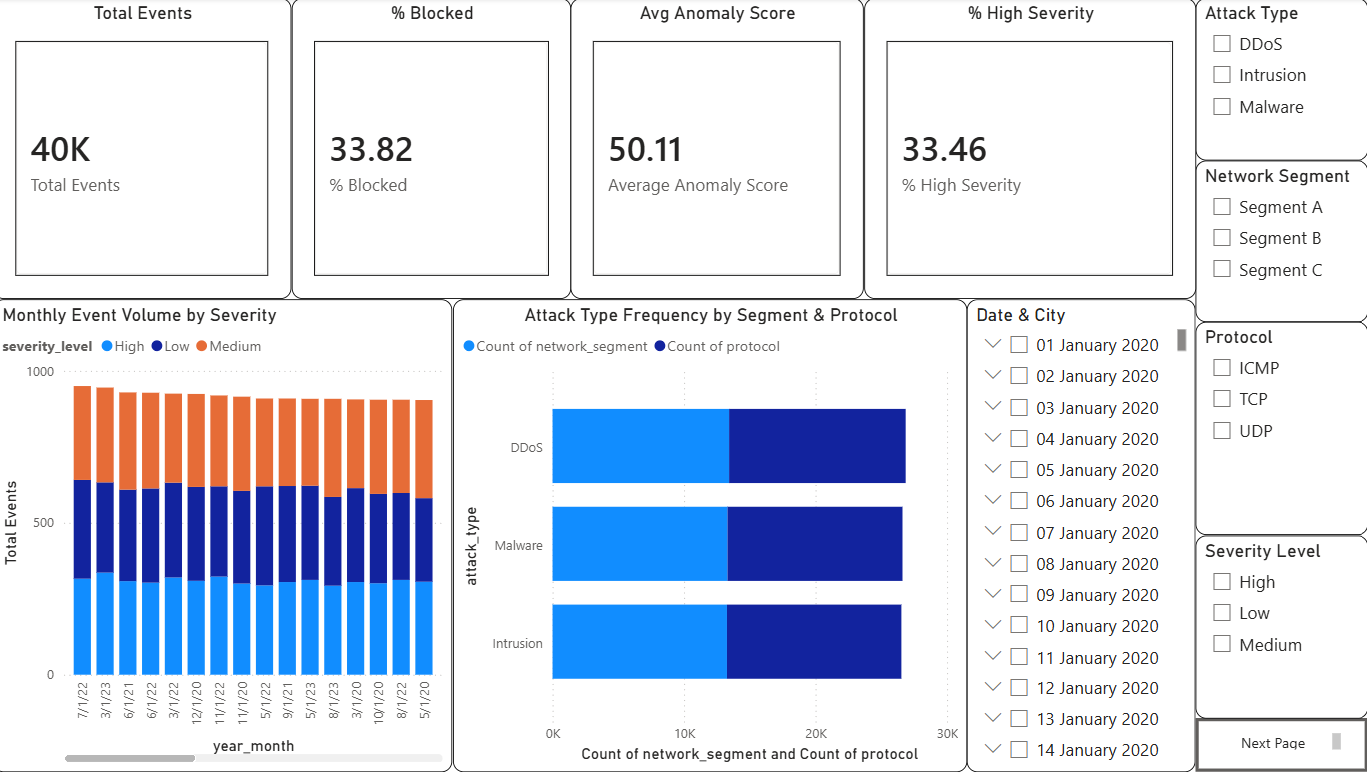

The page's visual inventory and layout, read from the dashboard file:
{"tool":"powerbi","page":{"name":"Dashboard Overview","canvas":[1280,720],"ordinal":0},"visuals":[{"type":"cardVisual","title":"Total Events","fields":{"Data":["public cybersecurity_attacks.total events"]},"box":[0,0,277.5,280],"z":0},{"type":"cardVisual","title":"% Blocked","fields":{"Data":["public cybersecurity_attacks.% blocked"]},"box":[277.5,0,260,280],"z":2000},{"type":"cardVisual","title":"Avg Anomaly Score","fields":{"Data":["public cybersecurity_attacks.Average Anomaly Score"]},"box":[537.5,0,272.5,280],"z":3000},{"type":"columnChart","title":"\tMonthly Event Volume by Severity","fields":{"Category":["public cybersecurity_attacks.year_month"],"Y":["public cybersecurity_attacks.total events"],"Series":["public cybersecurity_attacks.severity_level"]},"box":[0,280,427.5,440],"z":4000},{"type":"barChart","title":"Attack Type Frequency by Segment & Protocol","fields":{"Category":["public cybersecurity_attacks.attack_type"],"Y":["CountNonNull(public cybersecurity_attacks.network_segment)","CountNonNull(public cybersecurity_attacks.protocol)"]},"box":[427.5,280,478.8,440],"z":5000},{"type":"actionButton","box":[1118.8,670,161.2,50],"z":5001},{"type":"textbox","box":[1131.2,678.8,127.5,25],"z":5002},{"type":"slicer","title":"Attack Type","fields":{"Values":["public cybersecurity_attacks.attack_type"]},"box":[1118.8,0,161.2,151.2],"z":5003},{"type":"slicer","title":"Network Segment","fields":{"Values":["public cybersecurity_attacks.network_segment"]},"box":[1118.8,151.2,161.2,150],"z":5004},{"type":"slicer","title":"Protocol","fields":{"Values":["public cybersecurity_attacks.protocol"]},"box":[1118.8,301.2,161.2,198.8],"z":5005},{"type":"slicer","title":"Severity Level","fields":{"Values":["public cybersecurity_attacks.severity_level"]},"box":[1118.8,500,161.2,170],"z":5006},{"type":"cardVisual","title":"% High Severity","fields":{"Data":["public cybersecurity_attacks.% High Severity"]},"box":[810,0,308.8,280],"z":5007},{"type":"slicer","title":"Date & City","fields":{"Values":["public cybersecurity_attacks.date","public cybersecurity_attacks.city"]},"box":[906.2,280,212.5,440],"z":5008}]}

Visuals, with their boxes in screenshot pixels (x1, y1, x2, y2), scaled from the page's 1280x720 canvas onto the 1367x772 screenshot:
"Total Events" cardVisual: <region>0, 0, 296, 300</region>
"% Blocked" cardVisual: <region>296, 0, 574, 300</region>
"Avg Anomaly Score" cardVisual: <region>574, 0, 865, 300</region>
"	Monthly Event Volume by Severity" columnChart: <region>0, 300, 457, 771</region>
"Attack Type Frequency by Segment & Protocol" barChart: <region>457, 300, 968, 771</region>
actionButton: <region>1195, 718, 1366, 771</region>
textbox: <region>1208, 728, 1344, 755</region>
"Attack Type" slicer: <region>1195, 0, 1366, 162</region>
"Network Segment" slicer: <region>1195, 162, 1366, 323</region>
"Protocol" slicer: <region>1195, 323, 1366, 536</region>
"Severity Level" slicer: <region>1195, 536, 1366, 718</region>
"% High Severity" cardVisual: <region>865, 0, 1195, 300</region>
"Date & City" slicer: <region>968, 300, 1195, 771</region>
